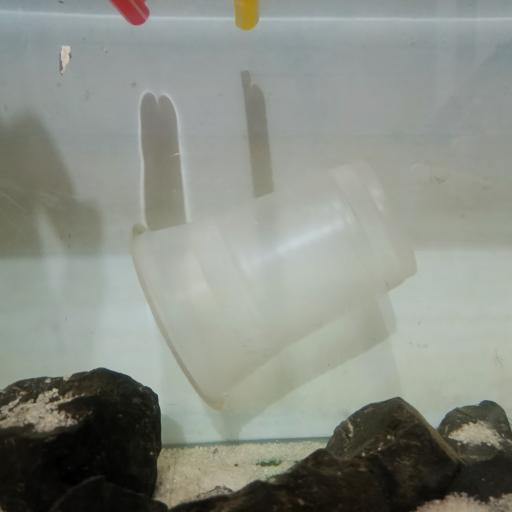plastic_cup: (128, 160, 417, 405)
plastic_straw: (110, 0, 151, 28), (236, 0, 258, 30)
